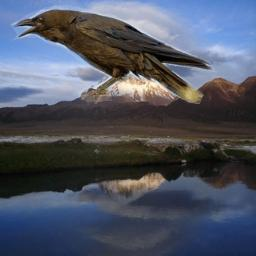Crow: (10, 4, 217, 104)
